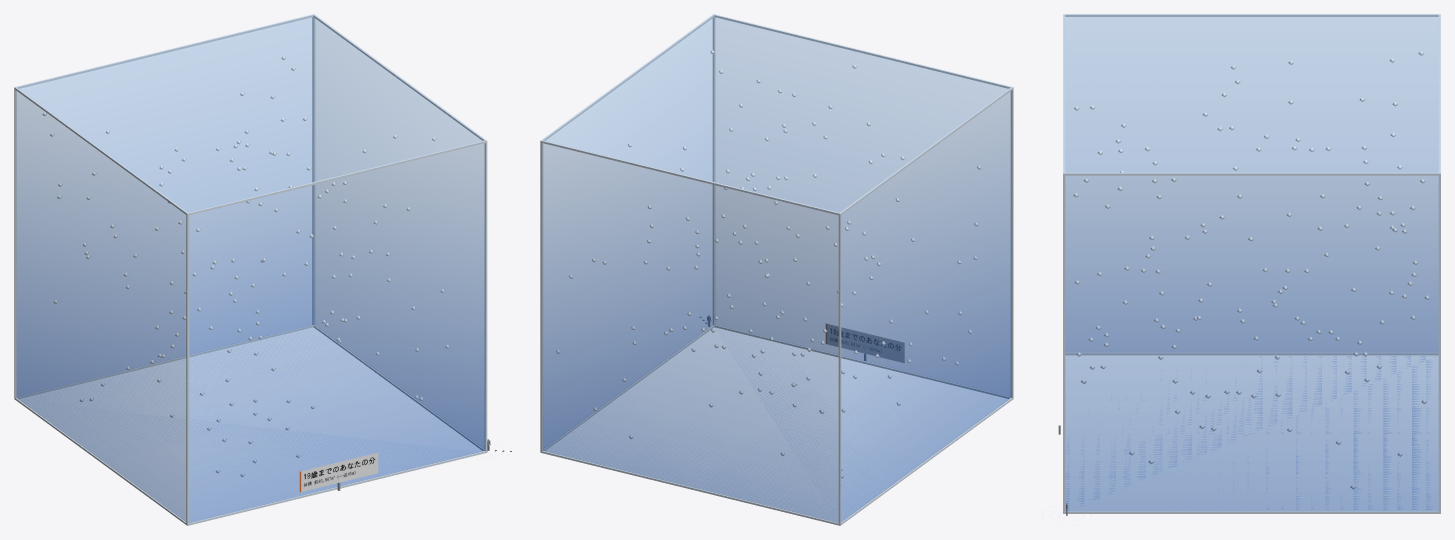
The model's file is cube_life_19.glb.
The picture shows the model from 3 angles, left to right: view 1: azimuth 30°, elevation 25°; view 2: azimuth 150°, elevation 25°; view 3: azimuth 270°, elevation 25°; orthographic projection. The views are drawn at different scales.
Visible parts, largest first — view 1: co2, edge, dots, label; view 2: co2, edge, dots, label; view 3: co2, edge, dots.
Part boxes in pixels (x1,y1,x2,y2): co2: (16, 15, 484, 522); edge: (14, 14, 487, 525); dots: (42, 56, 449, 477); label: (299, 452, 378, 492); co2: (543, 15, 1011, 522); edge: (540, 14, 1013, 525); dots: (556, 50, 981, 478); label: (826, 324, 904, 362); co2: (1064, 14, 1439, 511); edge: (1063, 14, 1440, 513); dots: (1073, 51, 1429, 489).
Size of the model in its own units: 49.15 by 45.45 by 48.25.
Materials: 8 (3 with a texture image).
